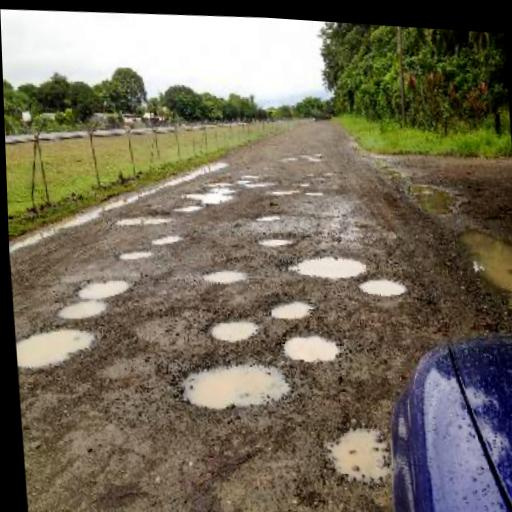pothole: (174, 350, 292, 416), (322, 419, 393, 488), (14, 319, 97, 373), (278, 326, 340, 365), (282, 251, 366, 279), (73, 272, 132, 303), (209, 312, 259, 342), (53, 295, 106, 323), (266, 294, 315, 324), (354, 272, 406, 298), (114, 205, 170, 225), (180, 185, 234, 204), (201, 264, 246, 286), (254, 230, 299, 248), (148, 229, 184, 244), (116, 245, 151, 260), (170, 199, 204, 212), (252, 209, 283, 222)
